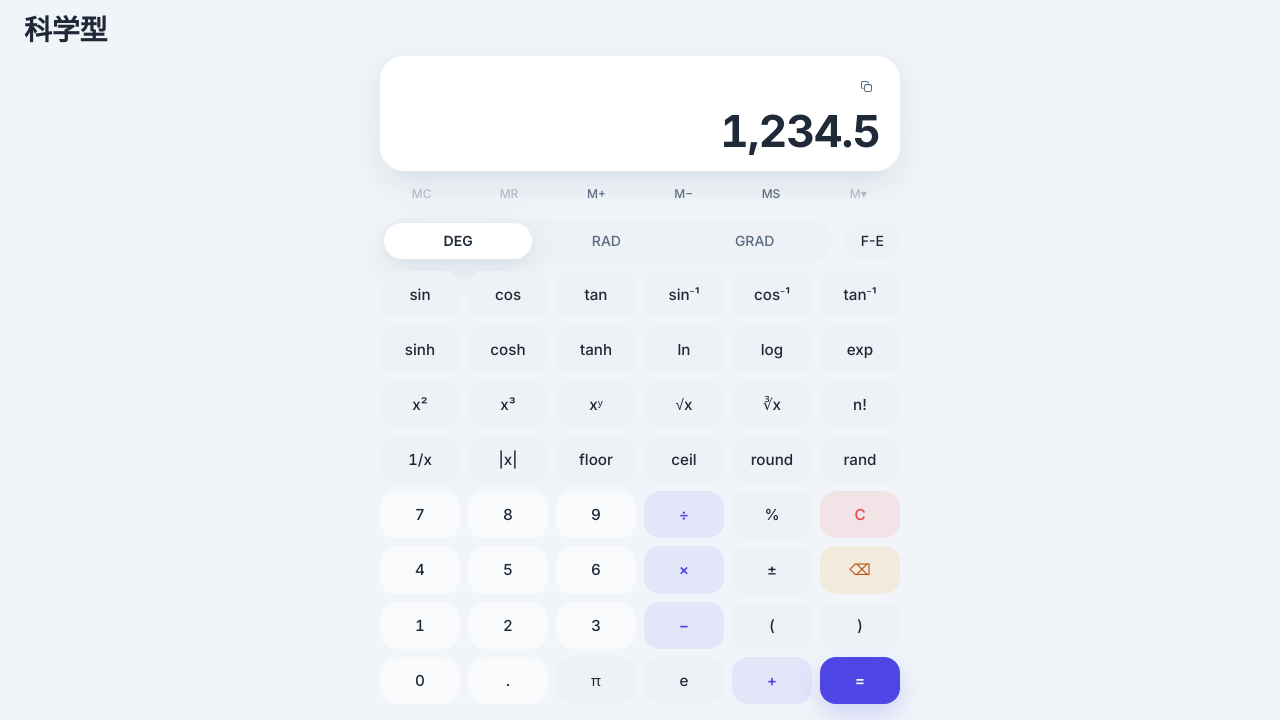
Scenario: ScientificPage › toggles F-E scientific notation for the display
This screenshot has width=1280, height=720.
What coordinates should you click on to do the following:
click the button named "切换科学记数法"
I would click on:
 (872, 241)
Its box is [845, 223, 900, 259].
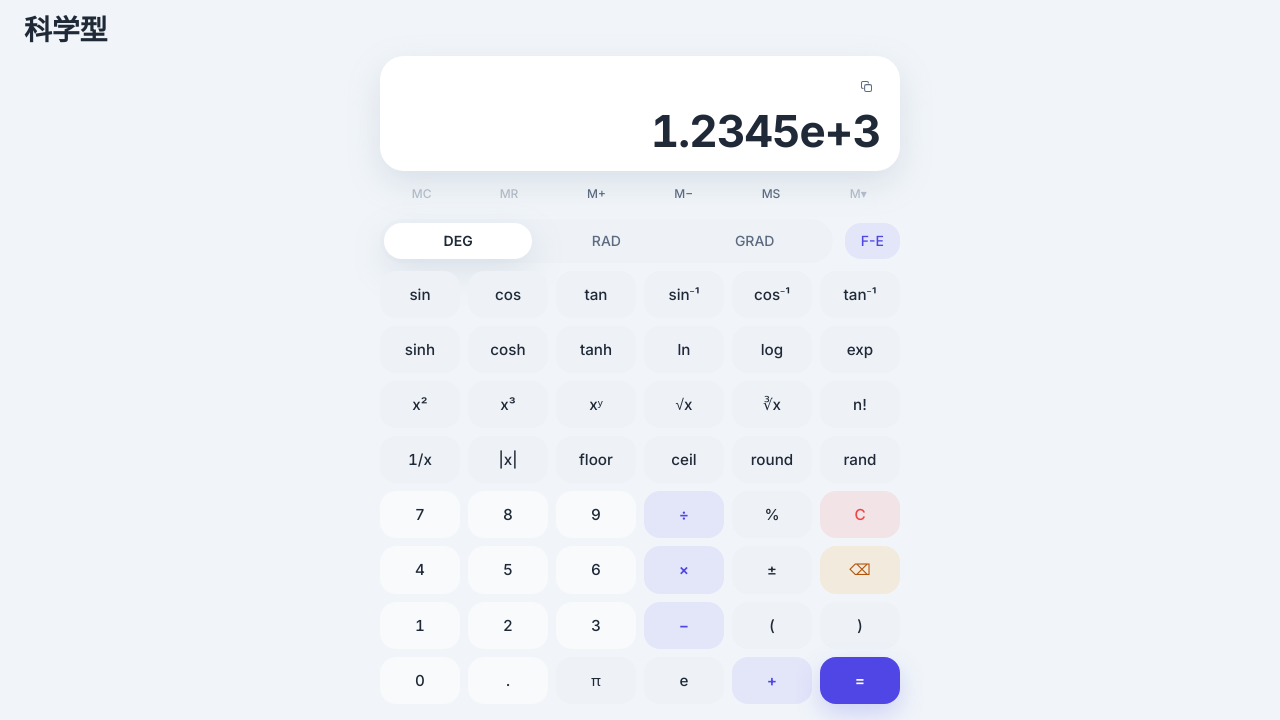
Expected: the text with test id "calc-value" reads "1.2345e+3", [651, 104, 880, 158]
